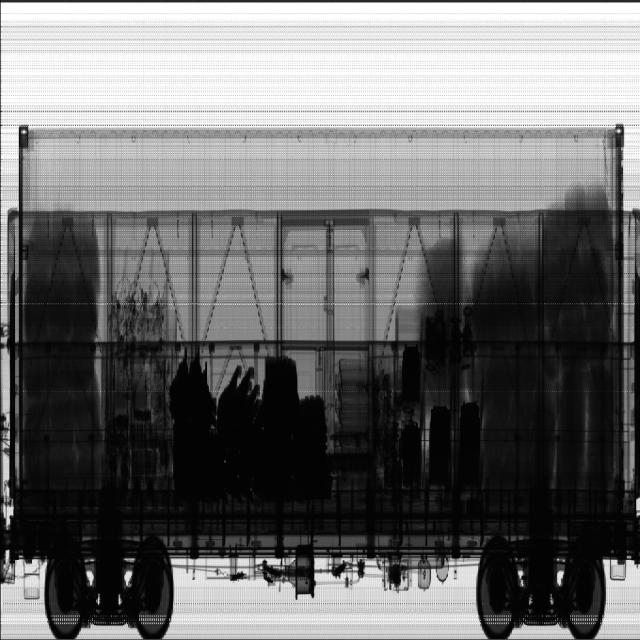clothes: (467, 182, 614, 493), (24, 217, 100, 488)
